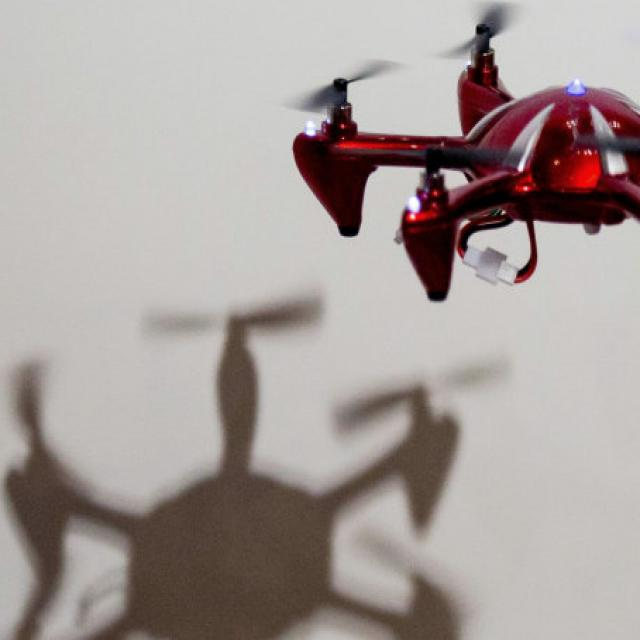drone: (296, 27, 640, 315)
